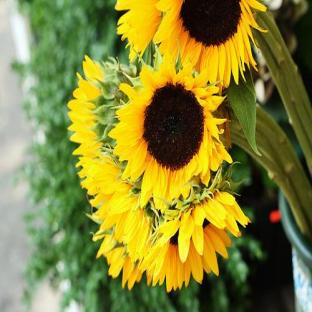sunflower: (109, 52, 233, 209)
